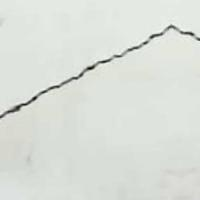crack: (0, 23, 199, 117)
